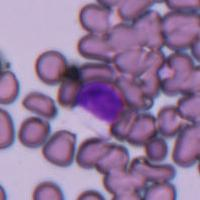L: (74, 80, 125, 125)
